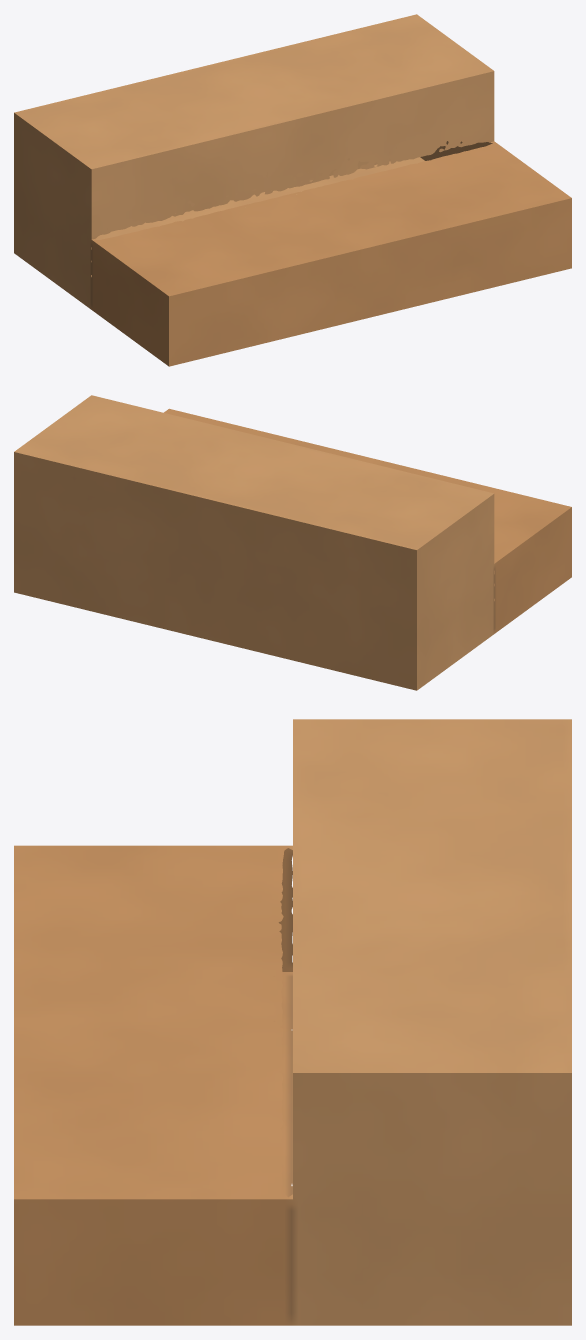
3 views of the same model, one above another, from view 1: azimuth 30°, elevation 25°; view 2: azimuth 150°, elevation 25°; view 3: azimuth 270°, elevation 25° (orthographic). The views are drawn at different scales.
Visible parts, largest first — view 1: ss19-sandstone-threshold-steps; view 2: ss19-sandstone-threshold-steps; view 3: ss19-sandstone-threshold-steps.
Boxes of the visible parts, x1,y1,x2,y2 form: ss19-sandstone-threshold-steps: (14,14,571,366); ss19-sandstone-threshold-steps: (14,395,571,690); ss19-sandstone-threshold-steps: (14,719,571,1325).
Bounding box in the file's own units: 150 × 50 × 100.
